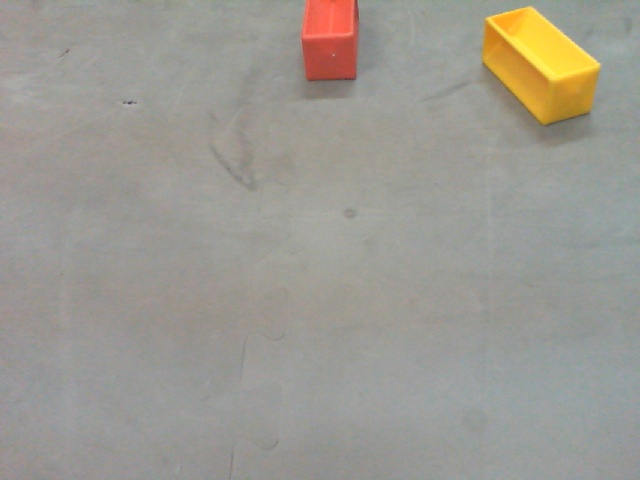RedSample: (301, 1, 359, 82)
YellowSample: (484, 8, 597, 122)
